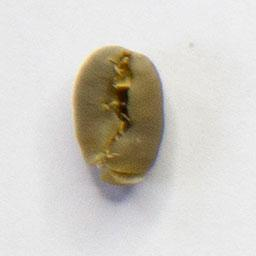peaberry: (70, 39, 169, 189)
